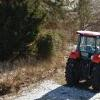Tractor: (60, 23, 100, 97)
